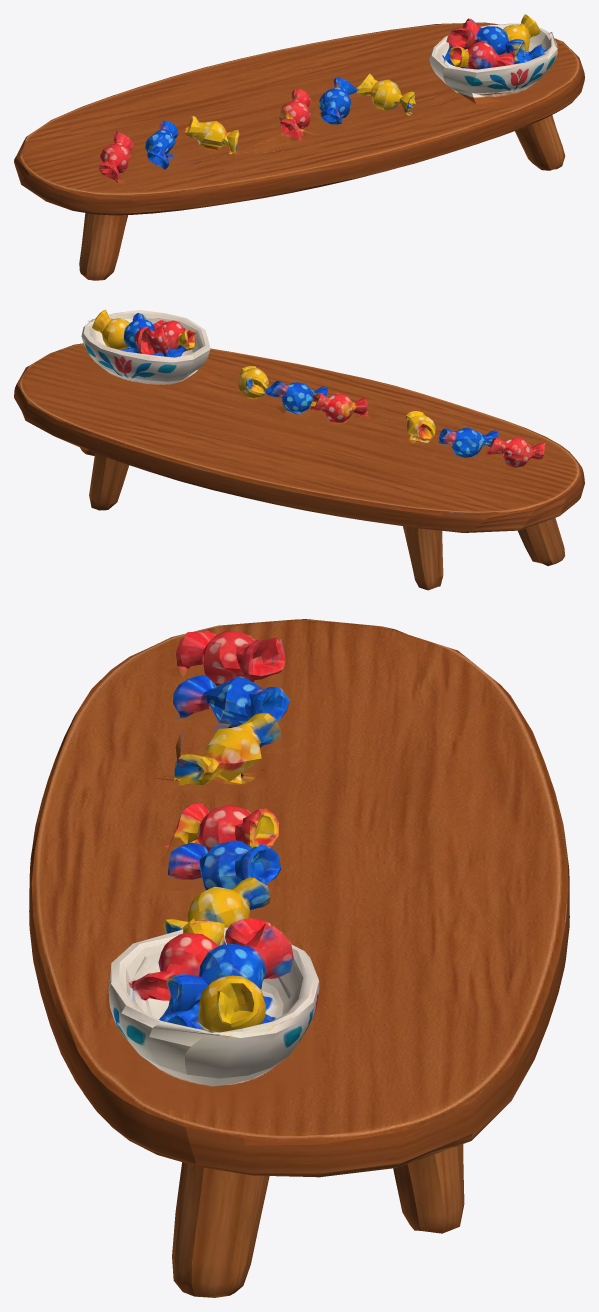
The picture shows the model from 3 angles, top to bottom: view 1: azimuth 30°, elevation 25°; view 2: azimuth 150°, elevation 25°; view 3: azimuth 270°, elevation 25°; orthographic projection. The views are drawn at different scales.
Visible parts, largest first — view 1: Mesh0; view 2: Mesh0; view 3: Mesh0.
Part boxes in pixels (box(x1,y1,x2,y2)): Mesh0: box(14, 14, 584, 280); Mesh0: box(14, 309, 584, 590); Mesh0: box(29, 619, 569, 1297).
Bounding box in the file's own units: 1.9 × 0.51 × 0.8229.
1 material, 1 textured.
